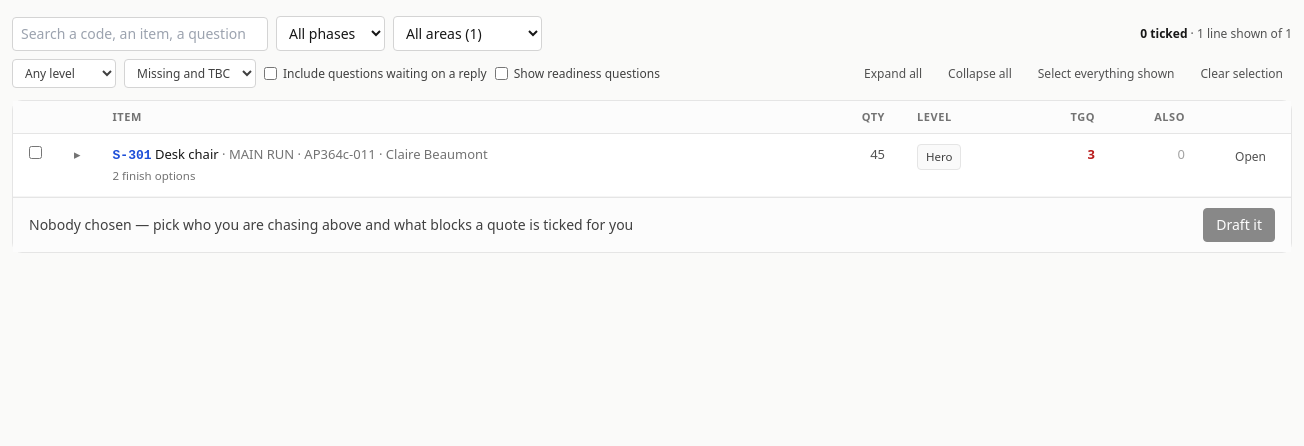
finish options › ticks one finish option without ticking the other
Click the text "Desk chair" at (187, 154), box [155,145,219,163]
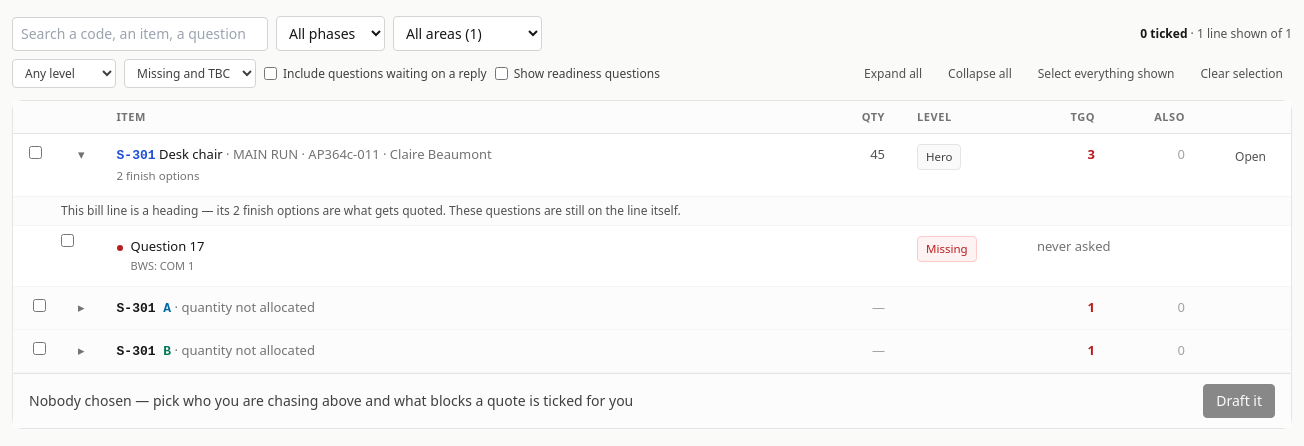
Click the checkbox named "Ask everything shown on S-301 A" at (40, 306), box [33,299,46,312]
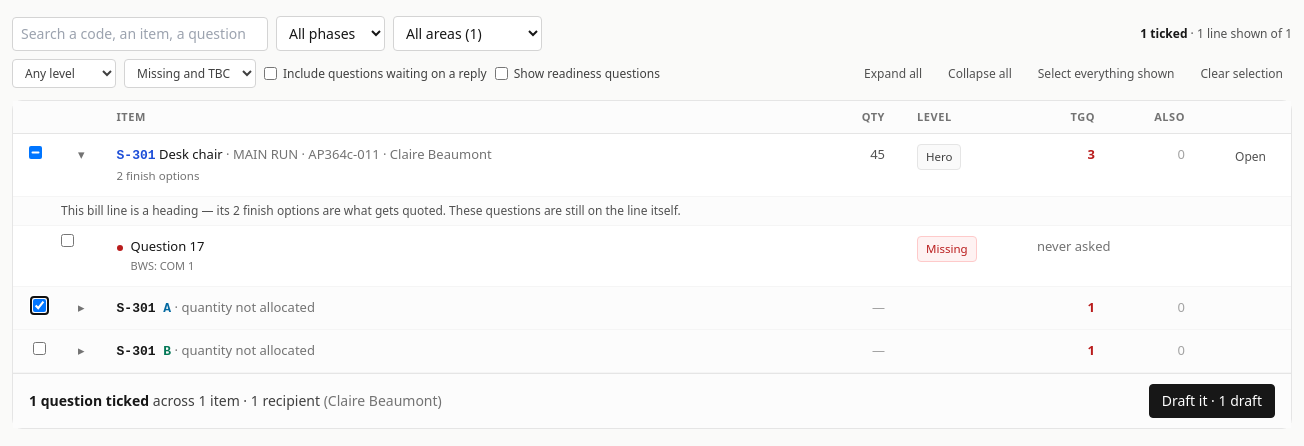
expect the text "1 question ticked" is shown: met, box [29,391,149,410]
expect the button "Draft it · 1 draft" is shown: met, box [1149,384,1275,418]
